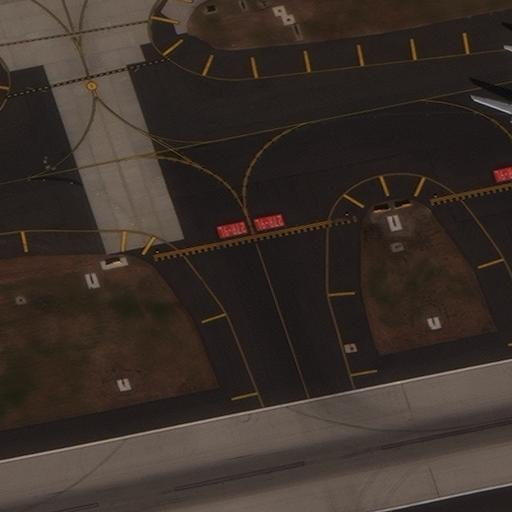Medium Civil Transport: (470, 44, 511, 139)
